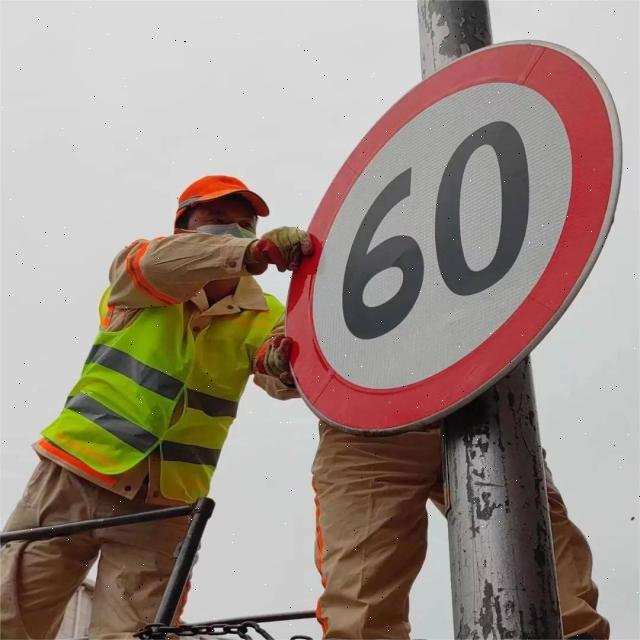speed limit 60: (281, 39, 622, 439)
